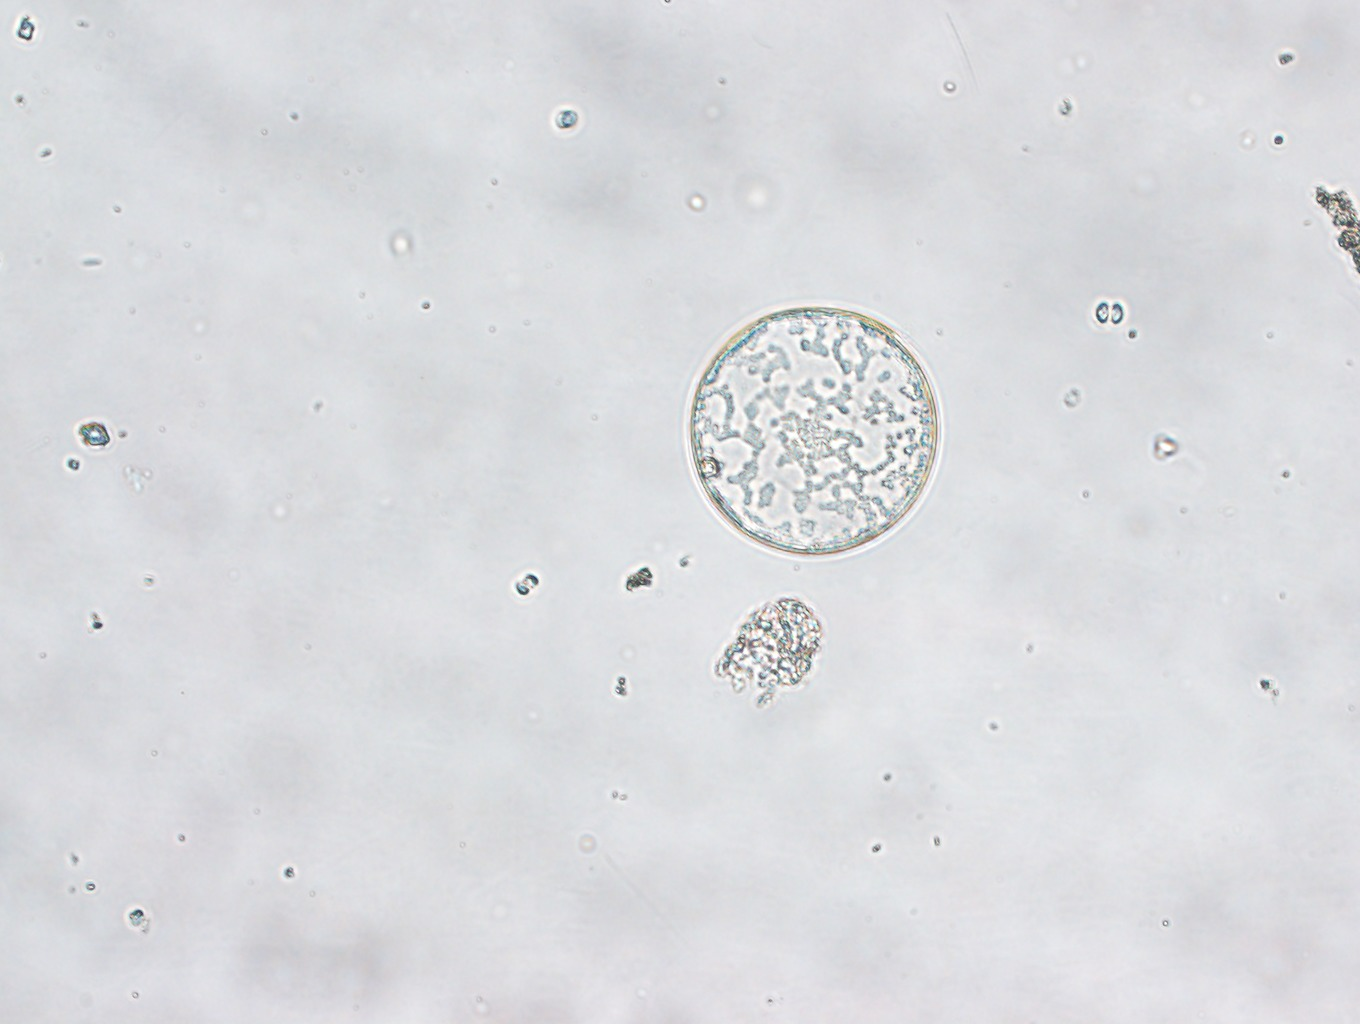coscinodiscus: (685, 303, 940, 557)
